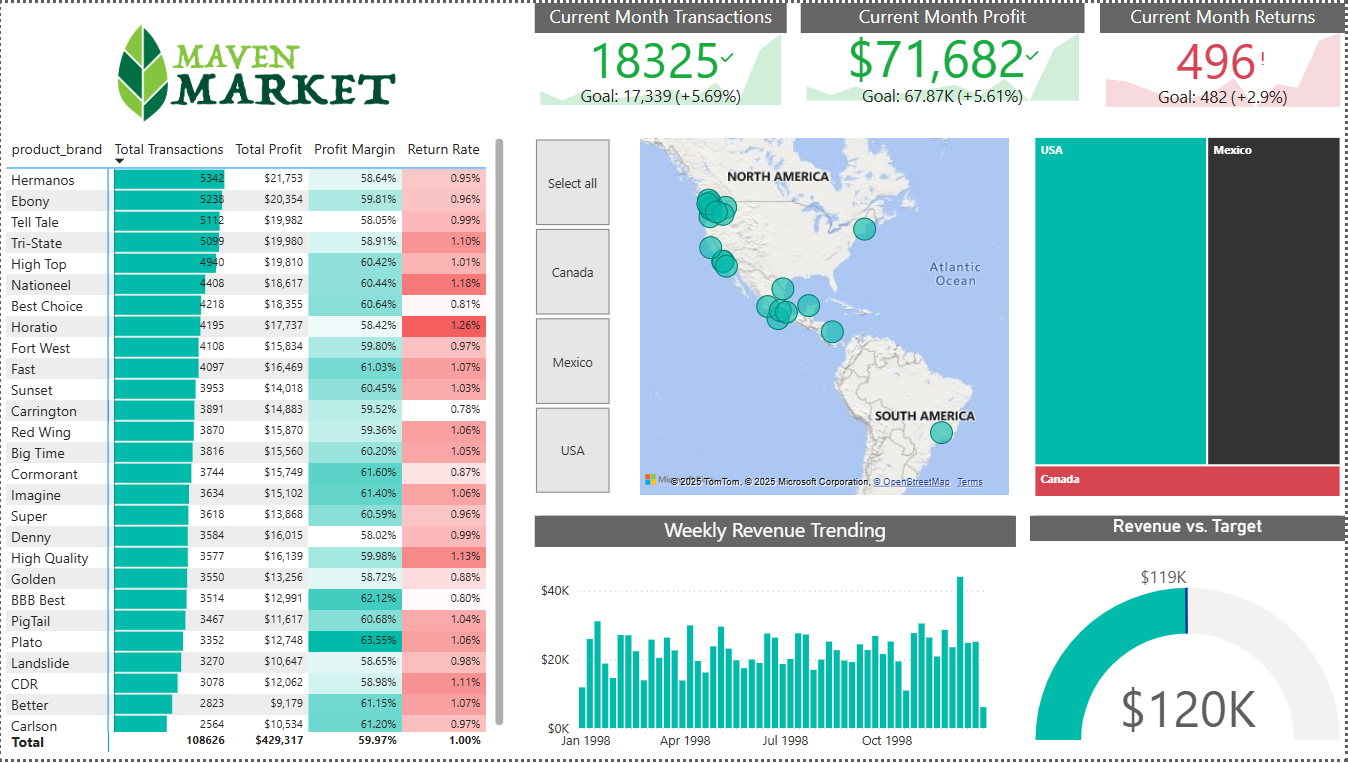

Layout of this report page (visuals, bound fields, positions):
{"tool":"powerbi","page":{"name":"Topline Performance","canvas":[1280,720],"ordinal":0},"visuals":[{"type":"pivotTable","fields":{"Values":["Transaction_Data.Total Transactions","Transaction_Data.Total Profit","Transaction_Data.Profit Margin","Return_Data.Return Rate"],"Rows":["Products.product_brand"]},"box":[0,124,484,596],"z":0},{"type":"kpi","title":"Current Month Transactions","fields":{"TrendLine":["Calendar.Start of Month"],"Goal":["Transaction_Data.Last Month Transactions"],"Indicator":["Transaction_Data.Total Transactions"]},"box":[508,0,240,102],"z":1000},{"type":"kpi","title":"Current Month Profit","fields":{"Indicator":["Transaction_Data.Total Profit"],"TrendLine":["Calendar.Start of Month"],"Goal":["Transaction_Data.Last Month Profit"]},"box":[762,0,270,98],"z":2000},{"type":"kpi","title":"Current Month Returns","fields":{"TrendLine":["Calendar.Start of Month"],"Goal":["Return_Data.Last Month Return"],"Indicator":["Return_Data.Total Returns"]},"box":[1046,0,234,104],"z":3000},{"type":"image","box":[0,8,484,116],"z":4000},{"type":"map","fields":{"Category":["Stores.store_city"],"Y":["Transaction_Data.Total Transactions"]},"box":[604,124,362,350],"z":5000},{"type":"slicer","fields":{"Values":["Stores.store_country"]},"box":[484,124,120,350],"z":6000},{"type":"treemap","fields":{"Group":["Stores.store_country","Stores.store_state","Stores.store_city"],"Values":["Transaction_Data.Total Transactions"]},"box":[980,124,300,350],"z":7000},{"type":"clusteredColumnChart","title":"Weekly Revenue Trending","fields":{"Y":["Transaction_Data.Total Revenue"],"Category":["Calendar.Start of Week"]},"box":[508,488,458,232],"z":8000},{"type":"gauge","title":"Revenue vs. Target","fields":{"Y":["Transaction_Data.Total Revenue"],"TargetValue":["Transaction_Data.Revenue Target"]},"box":[980,488,300,232],"z":9000}]}

Visuals, with their boxes in screenshot pixels (x1, y1, x2, y2), scaled from the page's 1280x720 canvas onto the 1348x763 screenshot:
pivotTable - Transaction_Data.Total Transactions x Transaction_Data.Total Profit: bbox=(0, 131, 510, 762)
"Current Month Transactions" kpi: bbox=(535, 0, 788, 108)
"Current Month Profit" kpi: bbox=(802, 0, 1087, 104)
"Current Month Returns" kpi: bbox=(1102, 0, 1347, 110)
image: bbox=(0, 8, 510, 131)
map - Stores.store_city x Transaction_Data.Total Transactions: bbox=(636, 131, 1017, 502)
slicer - Stores.store_country: bbox=(510, 131, 636, 502)
treemap - Stores.store_country x Stores.store_state: bbox=(1032, 131, 1347, 502)
"Weekly Revenue Trending" clusteredColumnChart: bbox=(535, 517, 1017, 762)
"Revenue vs. Target" gauge: bbox=(1032, 517, 1347, 762)
